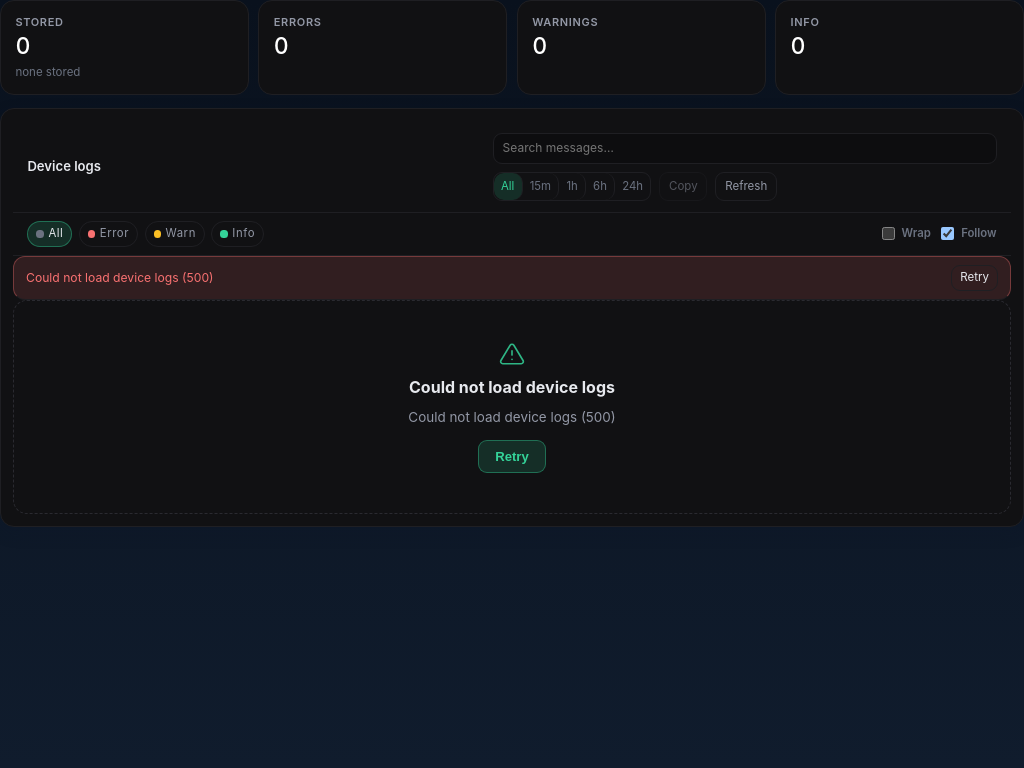
Test: DeviceLogs › recovers when a retry succeeds
Expected: the message "Could not load device logs (500) Retry" is shown, [13,256,1011,300]
Click the 1st button "Retry" at point(975, 278), box [951,265,998,291]
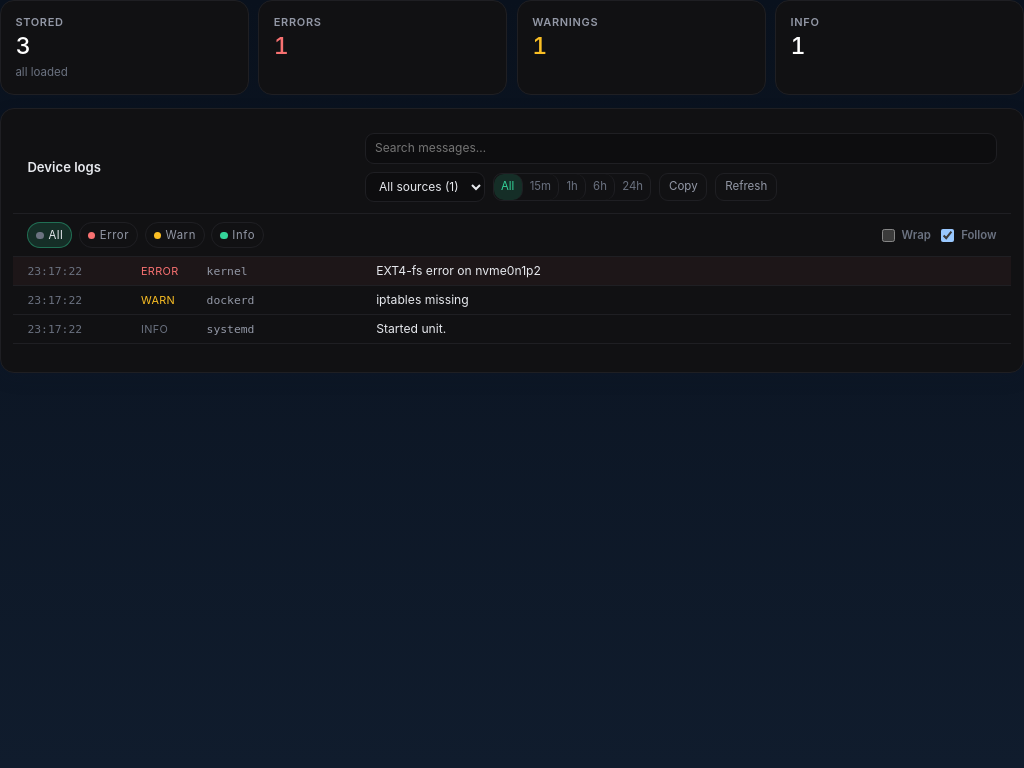
Result: the text "EXT4-fs error on nvme0n1p2" is shown at [376,263,541,278]
